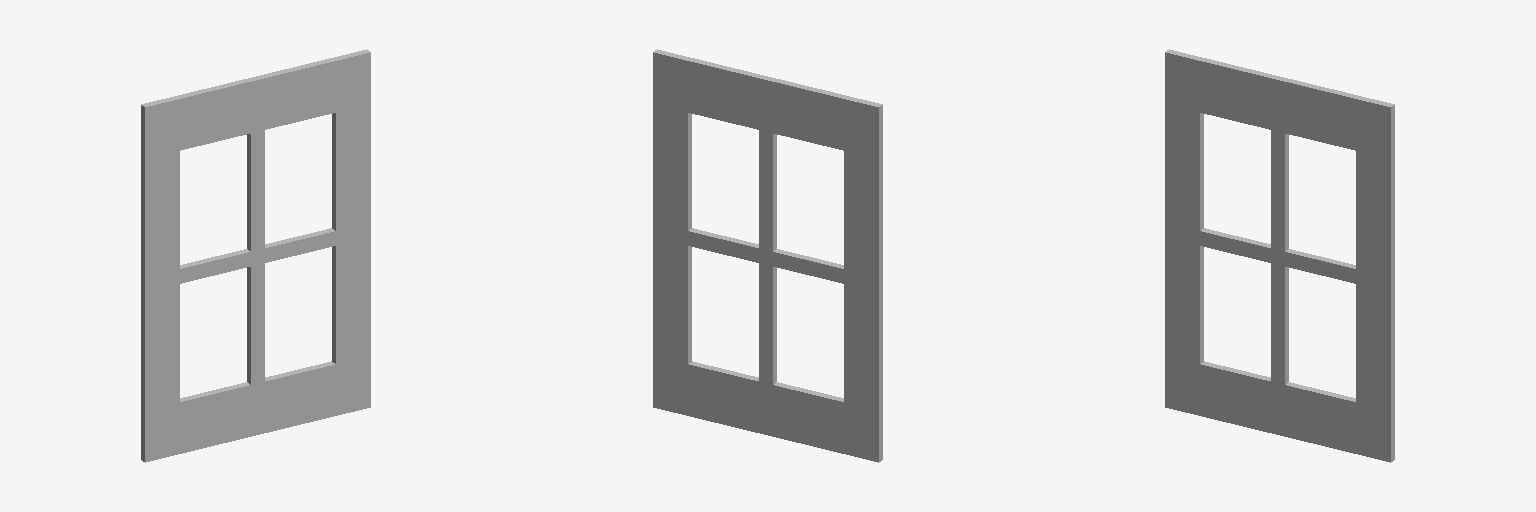
File: cad-Cut003.obj
3 renders of one model, left to right at view 1: azimuth 30°, elevation 25°; view 2: azimuth 150°, elevation 25°; view 3: azimuth 330°, elevation 25°, orthographic.
Parts seen in each view (by area): view 1: Cut003; view 2: Cut003; view 3: Cut003.
Part boxes in pixels (x1,y1,x2,y2): Cut003: (141, 49, 370, 462); Cut003: (653, 49, 882, 462); Cut003: (1165, 49, 1394, 462).
Size of the model in its own units: 80 by 120 by 2.5.